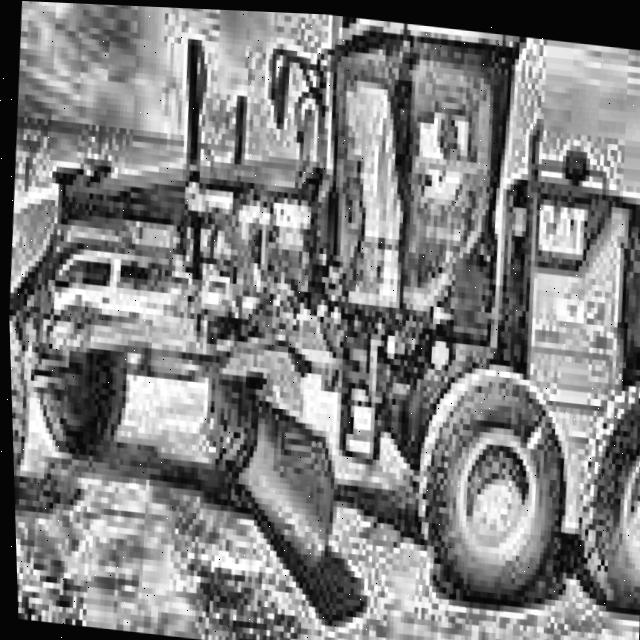buldozerpayloadergrader: (0, 0, 640, 637)
